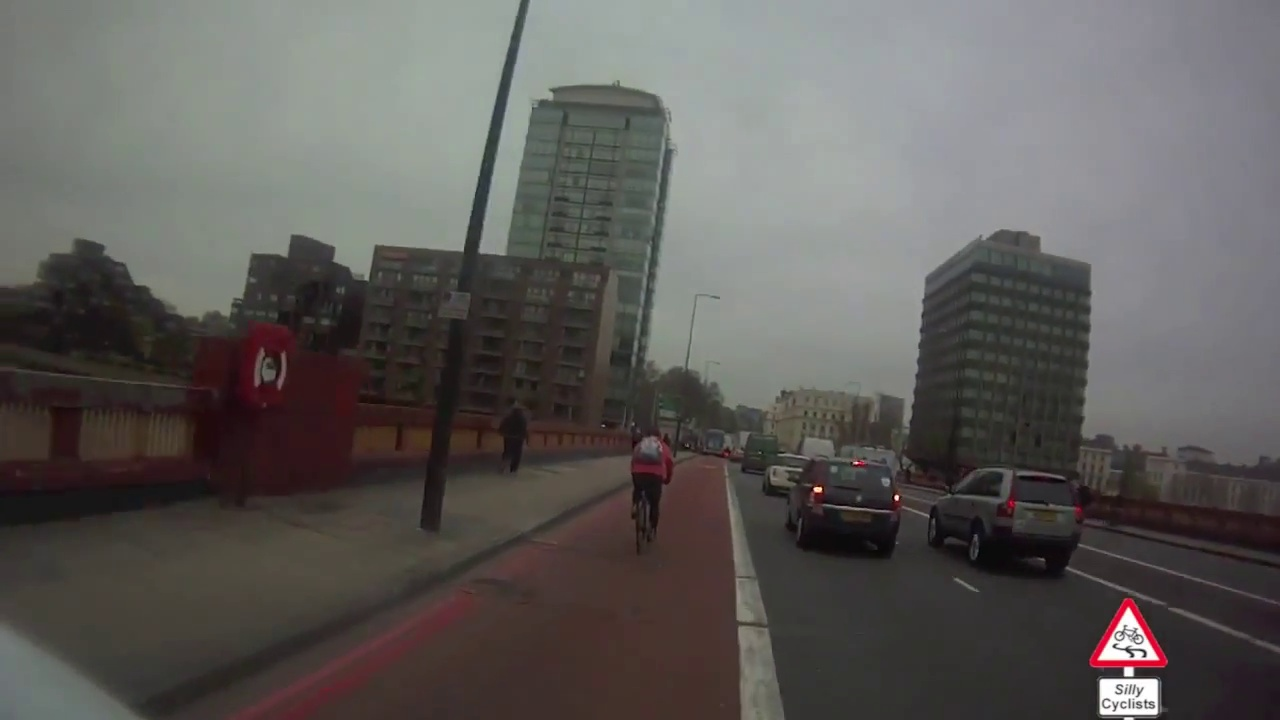cyclist_back: (624, 424, 676, 556)
